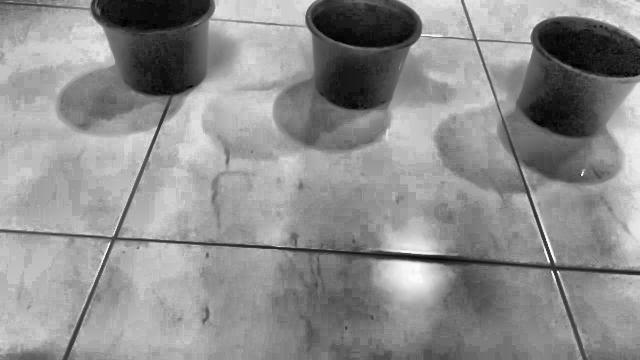pot: (518, 16, 640, 137), (306, 0, 422, 110), (90, 0, 214, 95)
